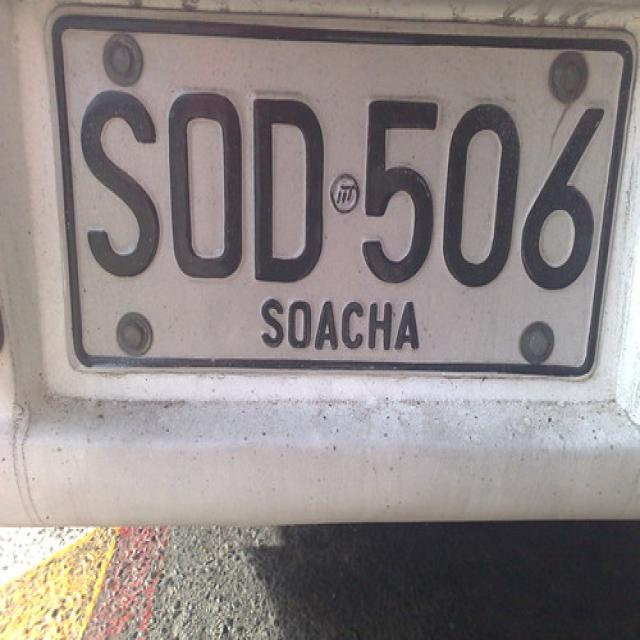placas: (76, 78, 619, 306)
